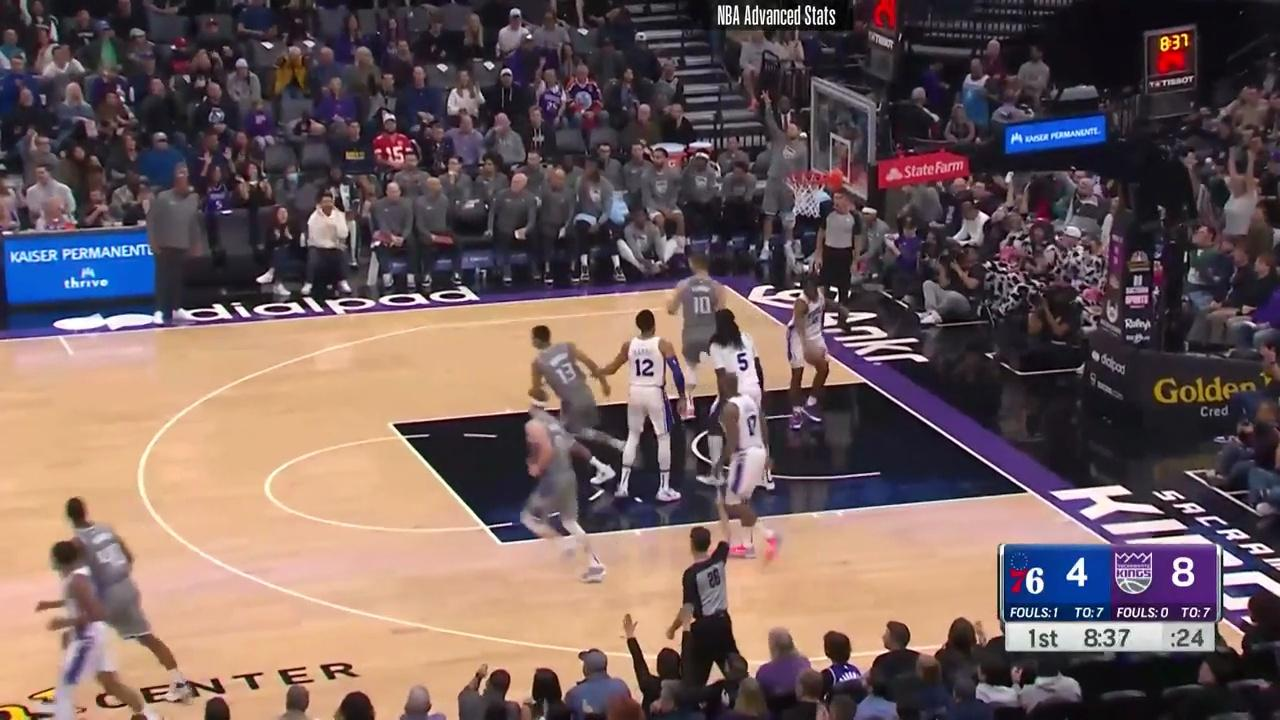Backboard: (810, 81, 875, 204)
Basket: (784, 165, 832, 223)
Person: (37, 536, 200, 720), (60, 493, 180, 663), (515, 394, 606, 587), (708, 360, 786, 572), (605, 306, 678, 527), (535, 317, 612, 457), (664, 255, 737, 377), (782, 278, 835, 423), (700, 306, 765, 407)
Referee: (675, 523, 749, 690), (814, 193, 864, 313)
Shot Clock: (1141, 21, 1201, 125), (856, 0, 903, 85)
